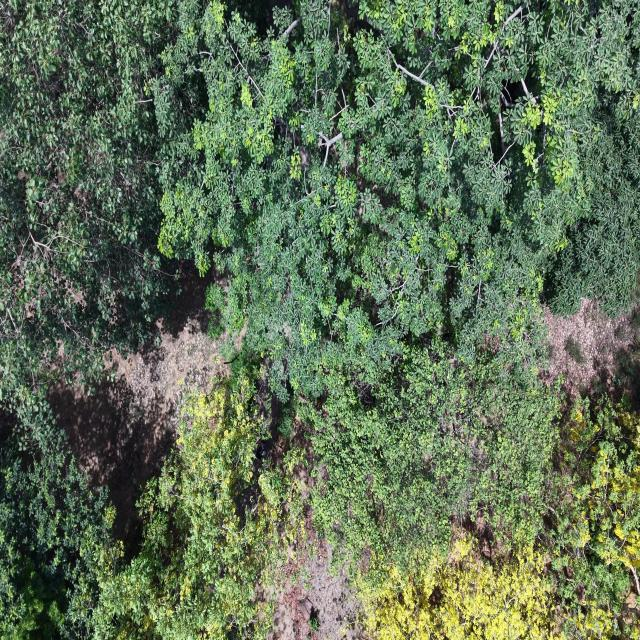DRY_AREA: (48, 270, 227, 548), (48, 280, 228, 554), (49, 285, 227, 544), (49, 319, 227, 540), (49, 378, 172, 541), (268, 503, 363, 639), (543, 299, 639, 410), (545, 299, 639, 409), (545, 299, 639, 408), (268, 546, 362, 639)
VEGETATION_TREE: (0, 0, 639, 639), (159, 0, 639, 565), (159, 0, 639, 397), (0, 0, 174, 639), (0, 0, 174, 403), (361, 400, 639, 639), (298, 345, 558, 567), (94, 367, 301, 639), (0, 412, 114, 639), (544, 399, 639, 637), (362, 535, 556, 639)
